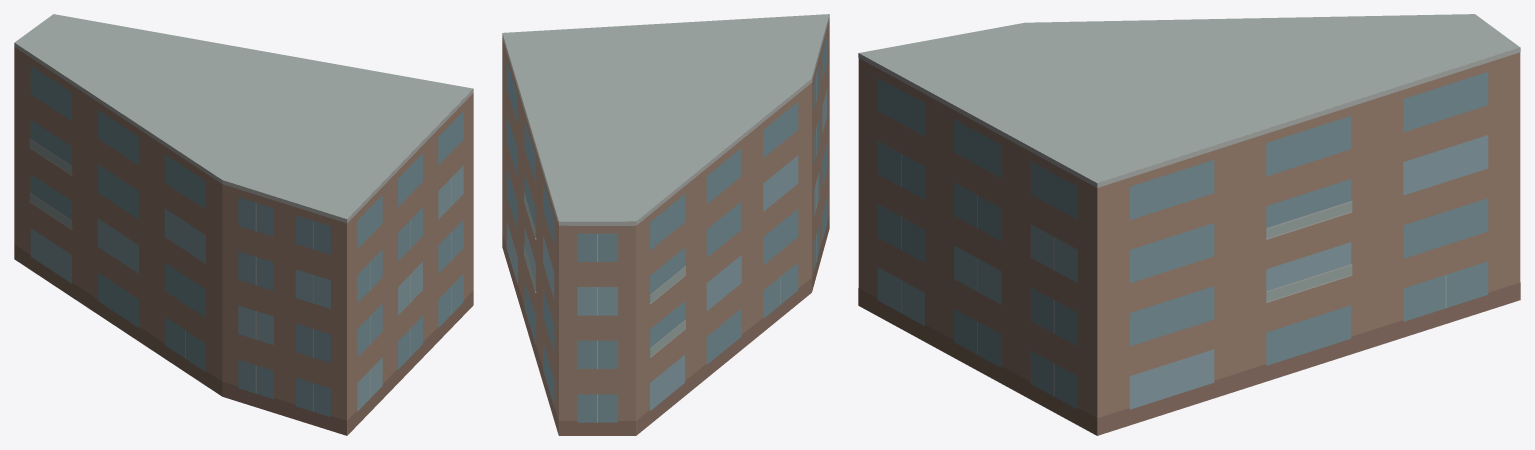
The model's file is survey-upis-32822561.glb.
3 views of the same model, side by side, from view 1: azimuth 30°, elevation 25°; view 2: azimuth 150°, elevation 25°; view 3: azimuth 270°, elevation 25° (orthographic). The views are drawn at different scales.
Visible parts, largest first — view 1: survey-upis-32822561.tmp; view 2: survey-upis-32822561.tmp; view 3: survey-upis-32822561.tmp.
Part boxes in pixels (<box>): survey-upis-32822561.tmp: <box>14,14,473,435</box>; survey-upis-32822561.tmp: <box>502,14,829,435</box>; survey-upis-32822561.tmp: <box>858,14,1520,435</box>.
Size of the model in its own units: 18.25 by 12.7 by 30.16.
